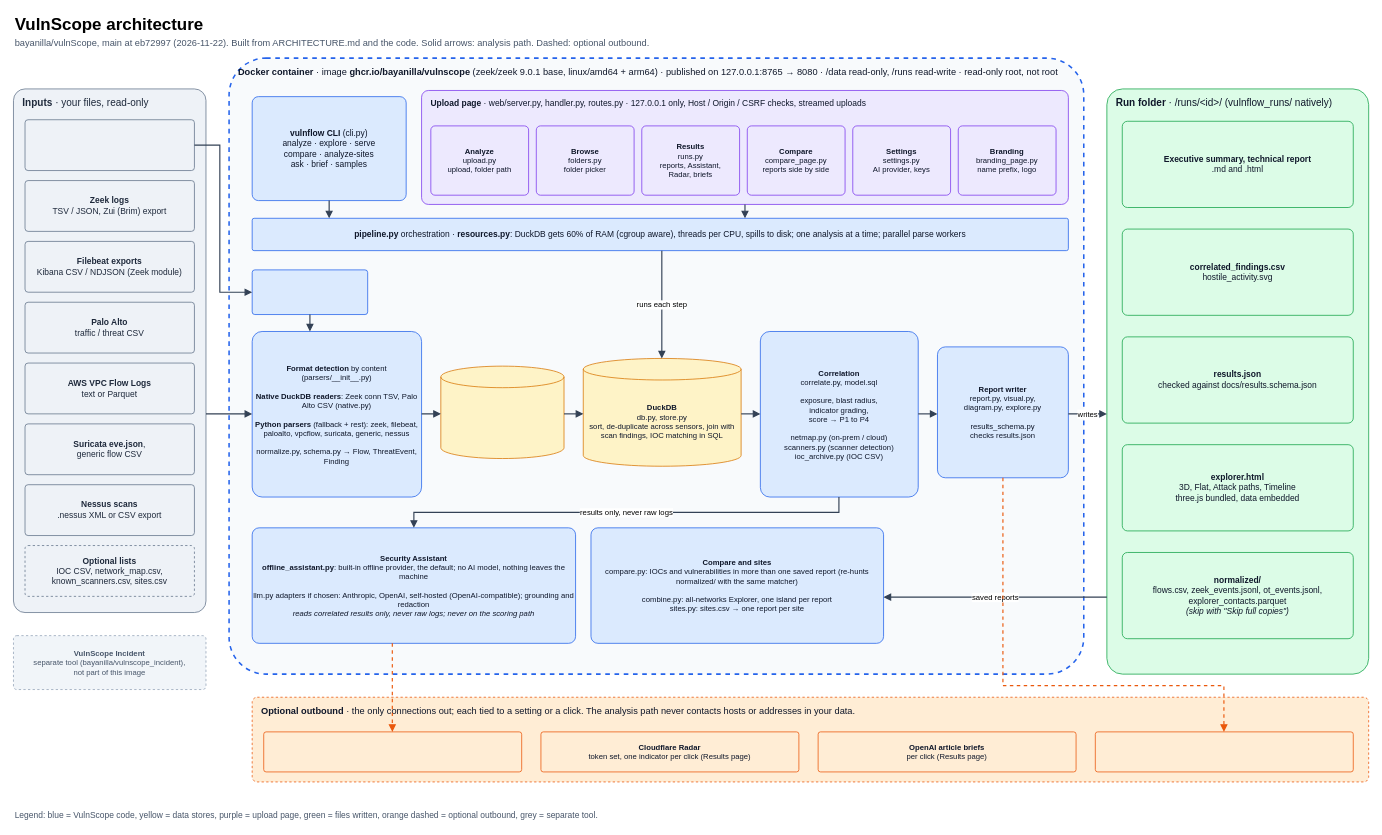
Some shapes in this 1382 by 835 pixel diagram are drawn without their labels. The centre of each missing label's shape, as x and y in pixels:
"Anthropic, OpenAI or your model server only if chosen in Settings" belongs at pixel 392 751.
"IOC article previews on by default; VULNSCOPE_OFFLINE=1 stops them" belongs at pixel 1224 751.
"Packet captures .pcap / .pcapng" belongs at pixel 109 145.
"Parquet temp work dir by sensor, day Zeek/OT events zstd" belongs at pixel 502 412.
"Zeek , runs offline pcap.py: PCAP → logs" belongs at pixel 309 292.
